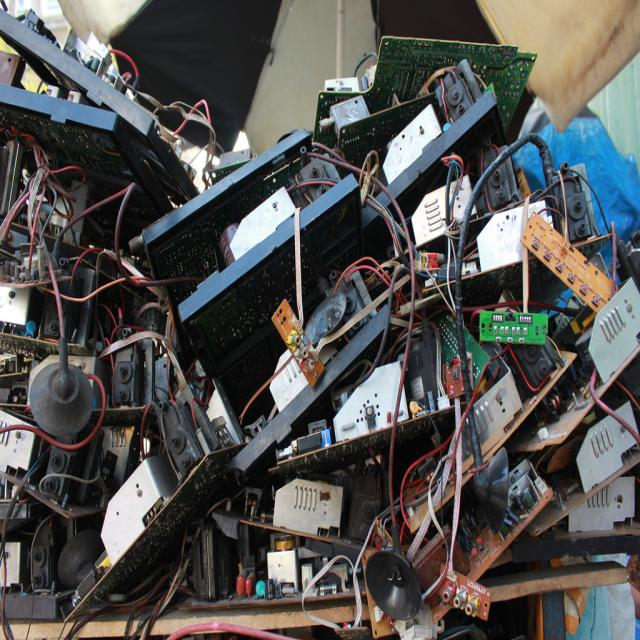Hazard: (0, 44, 640, 603), (0, 12, 254, 202)
